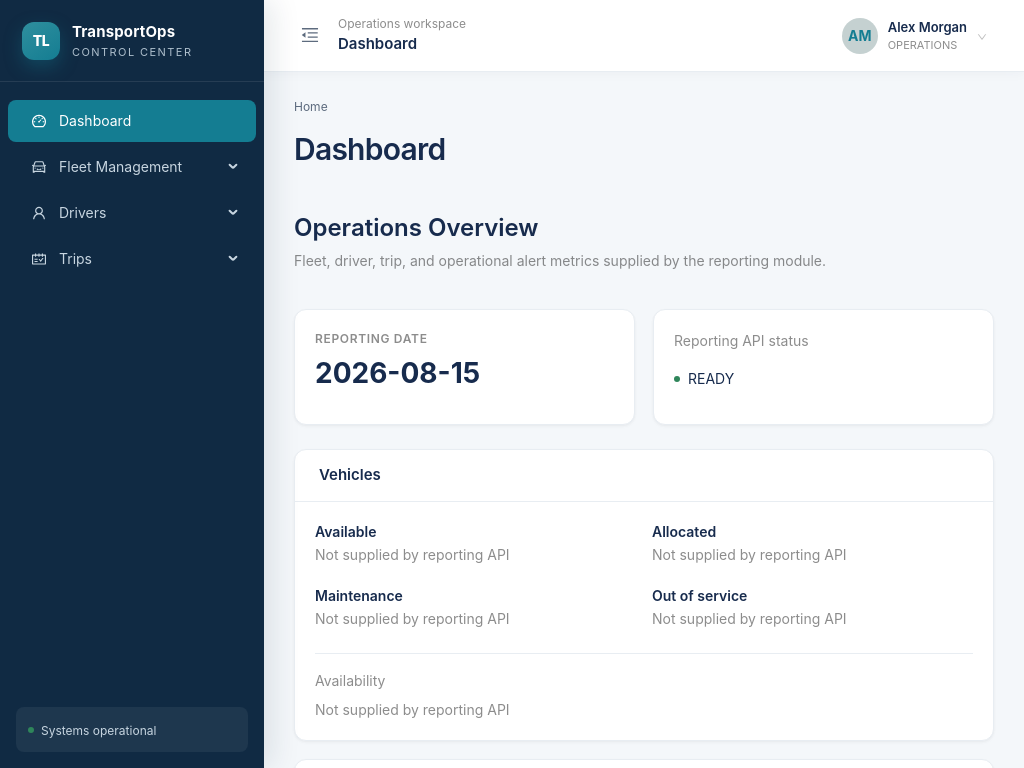
Scenario: AppLayout › shows only navigation authorized by backend permissions
Expected: the text "TransportOps" is shown, [72,21,192,44]
Click the menu item "Fleet Management": (107, 166) [32,158,182,175]
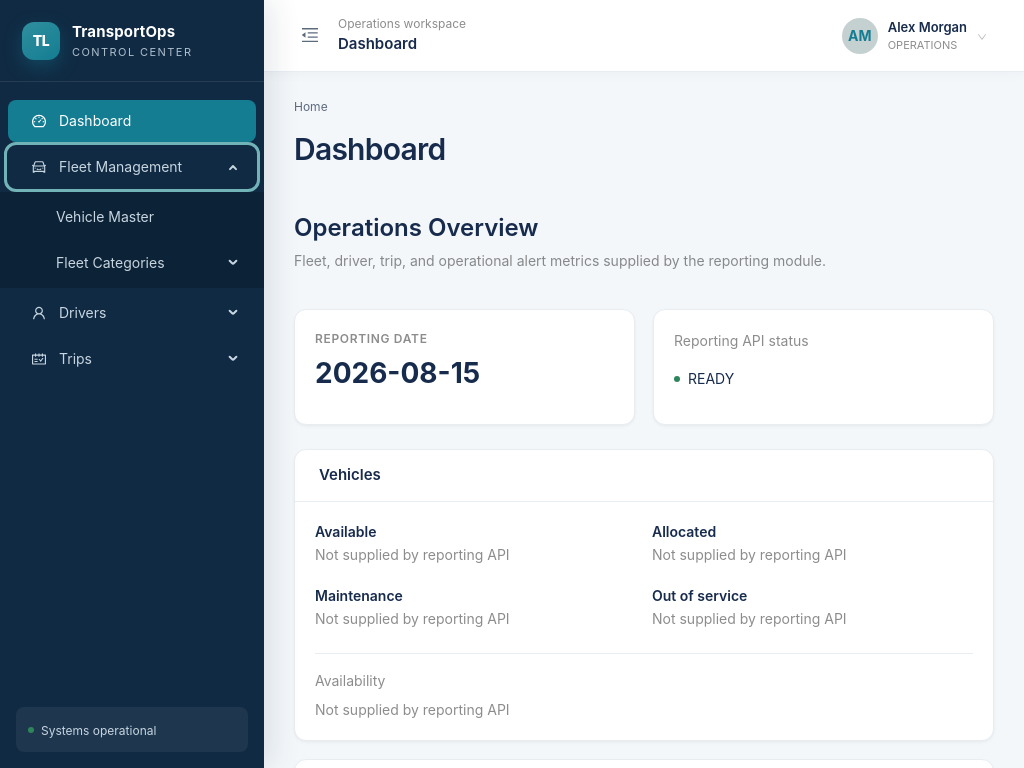
Expected: the text "Drivers" is shown, [59,304,106,321]
Expected: the link "Vehicle Master" is shown, [56,208,154,225]
Expected: the text "Fleet Categories" is shown, [56,254,164,271]
